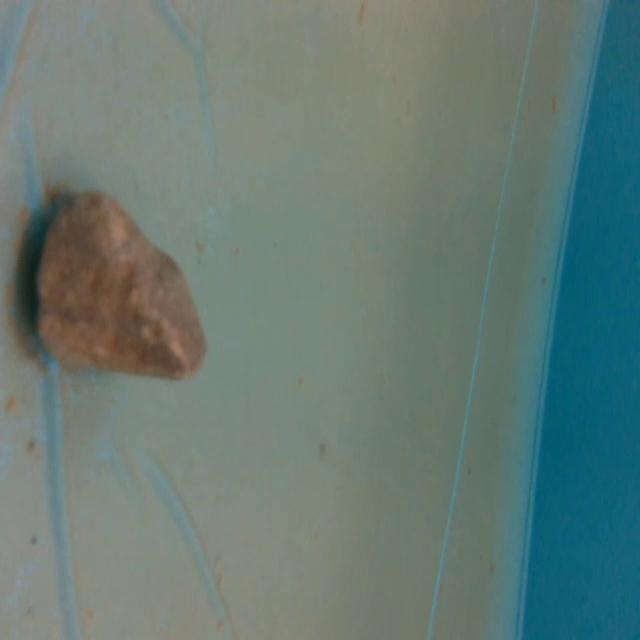rock: (30, 181, 216, 387)
